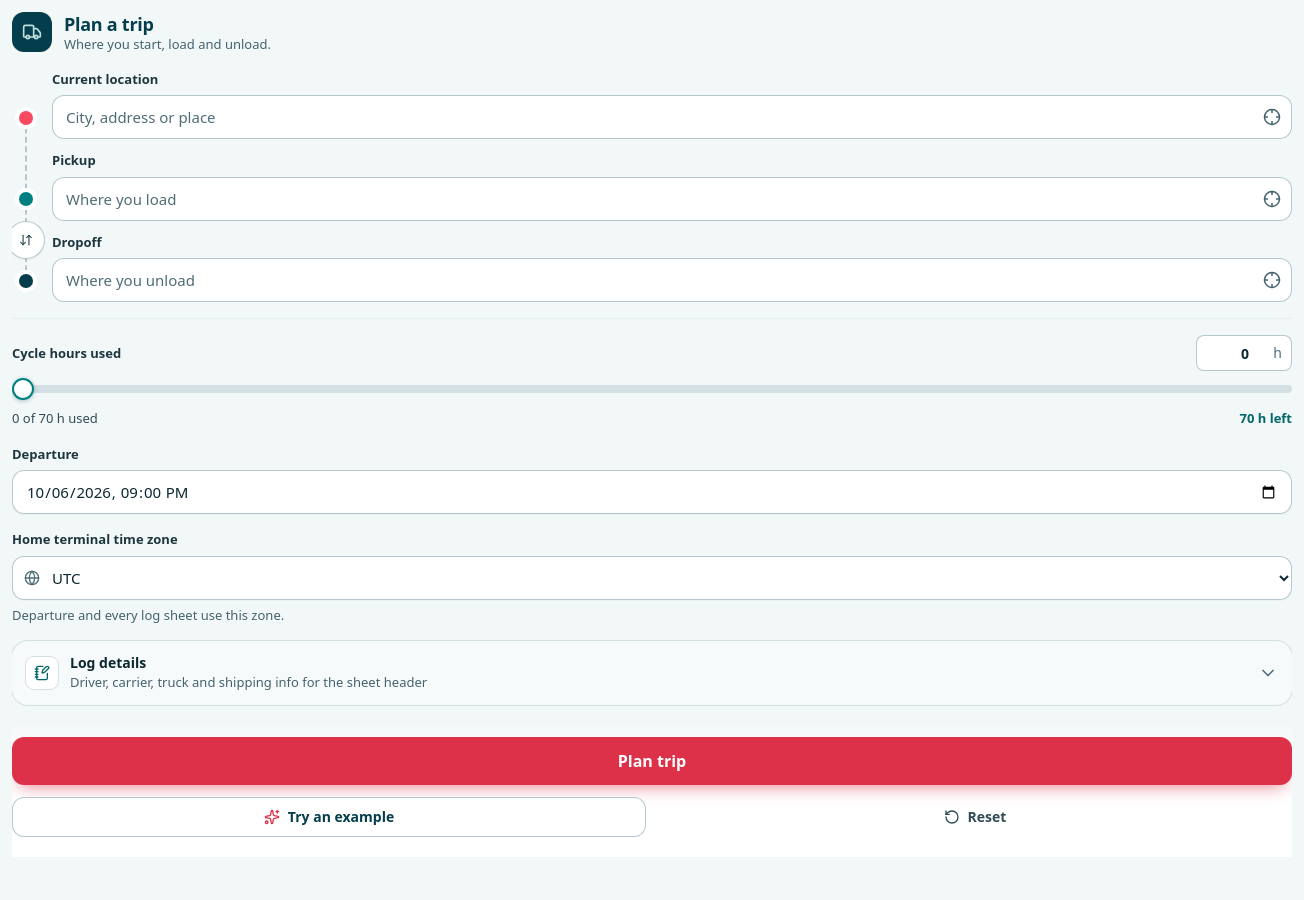
Test case: TripForm › validation › skips fields that are fine and lands on the first bad one
Click the button with test id "btn-example" at (329, 817), box [12,797,646,837]
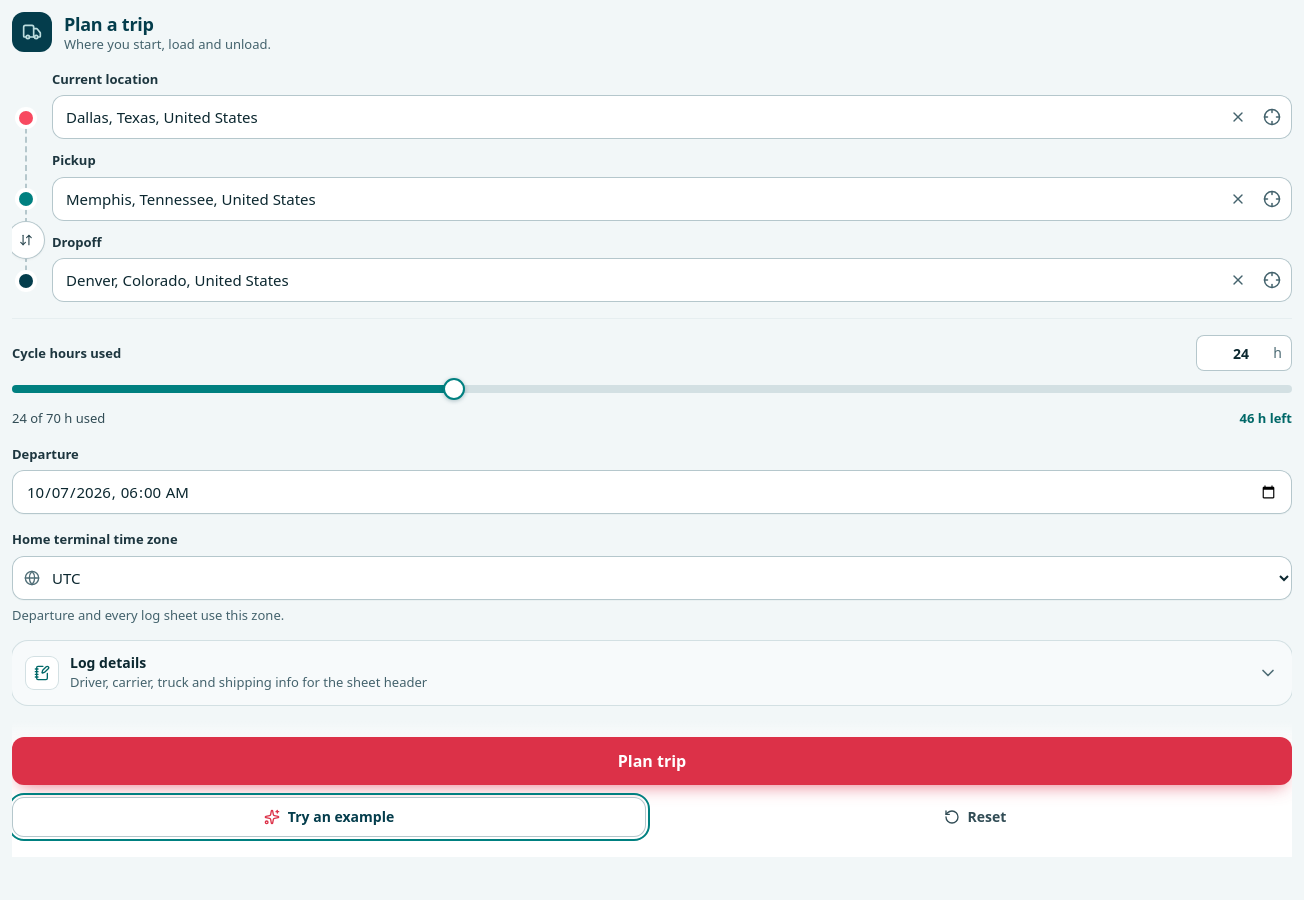
Replace the text in the number field with test id "input-cycle" with "80" at (1244, 353), box [1196,335,1292,371]
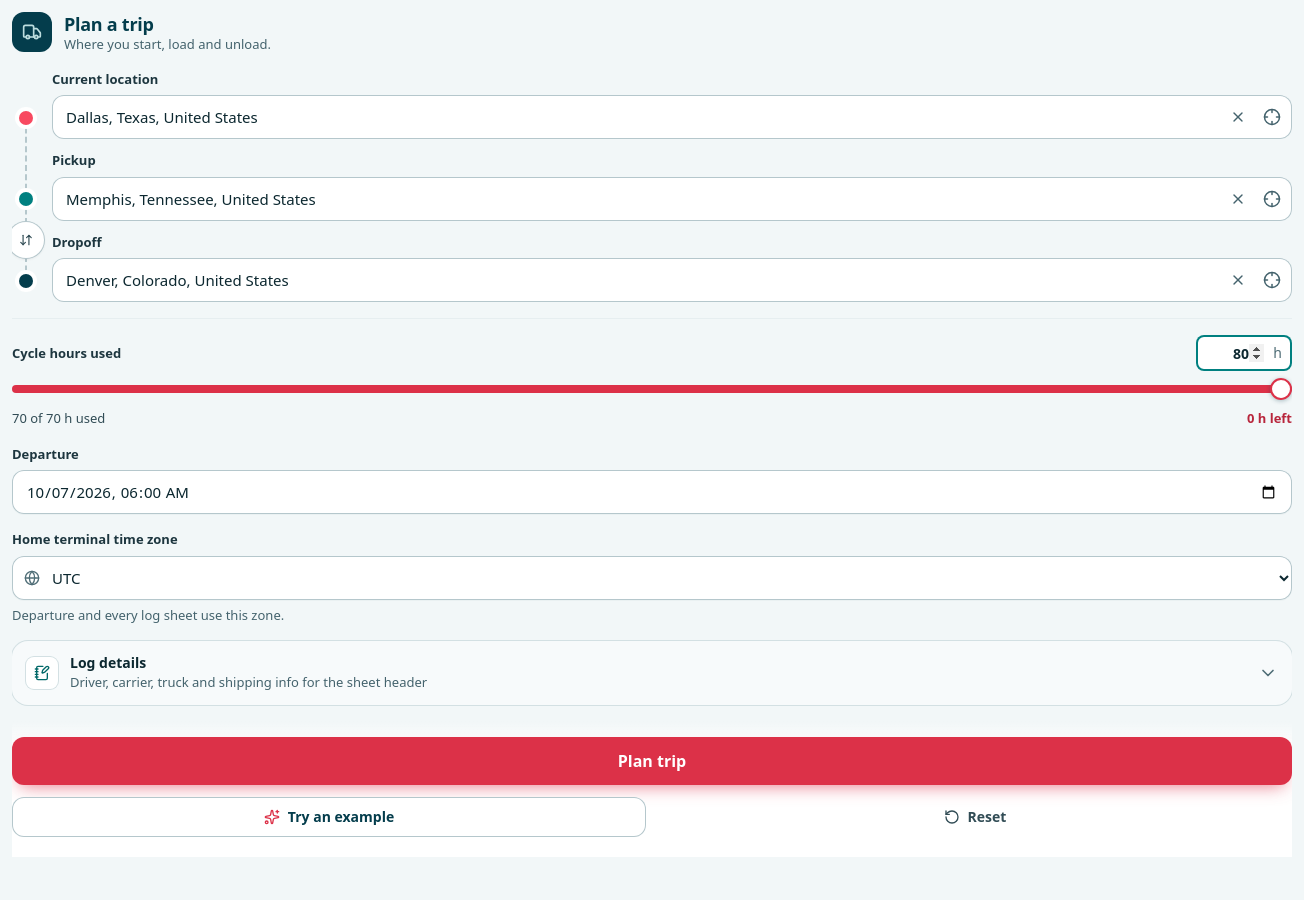
Click the button with test id "btn-plan" at (652, 761), box [12,737,1292,785]
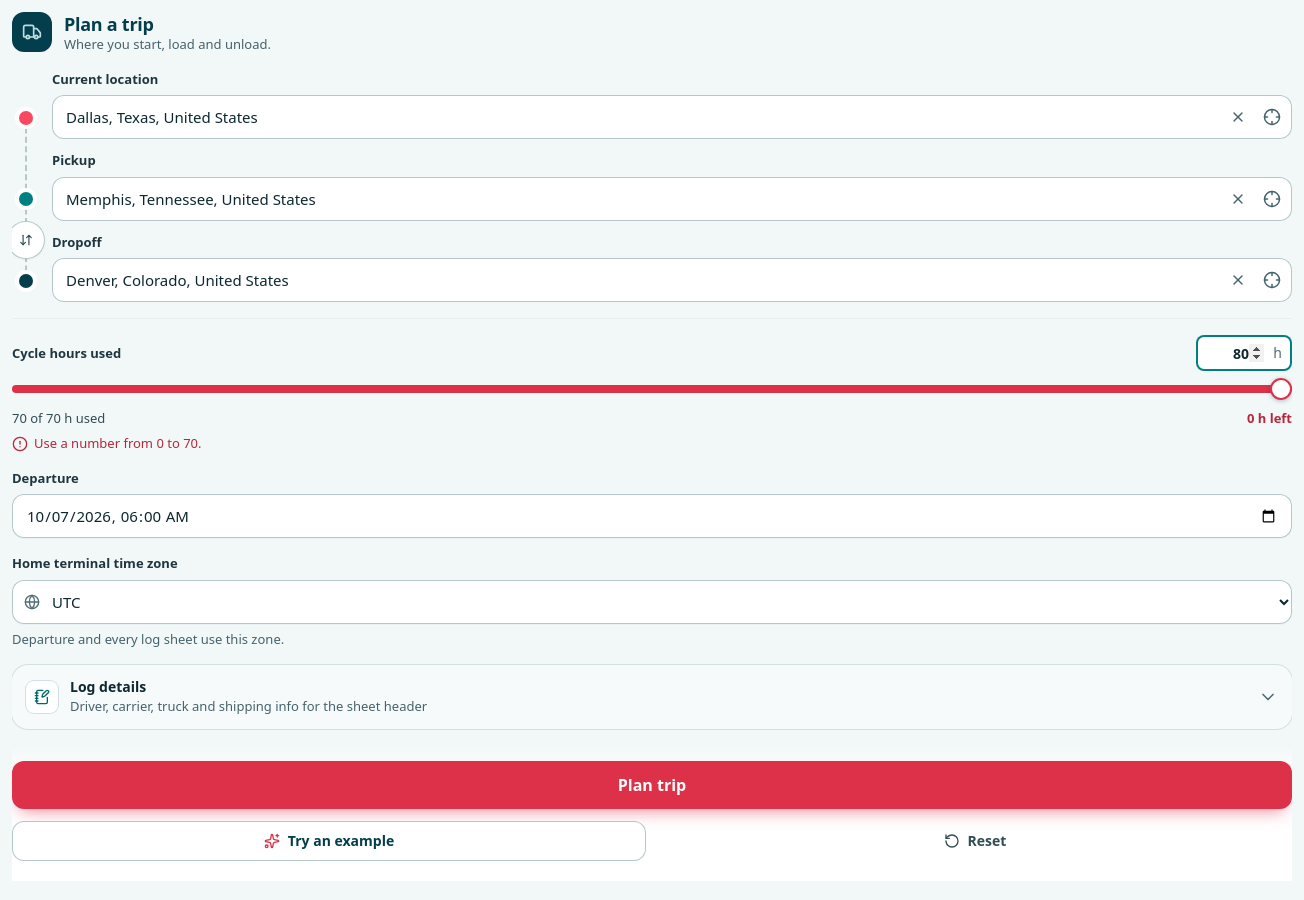
Now the message with test id "form-error-cycle" reads "Use a number from 0 to 70.", box [34,434,202,452]
